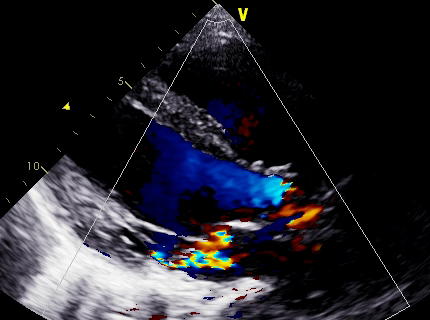MR: (181, 219, 246, 283)
